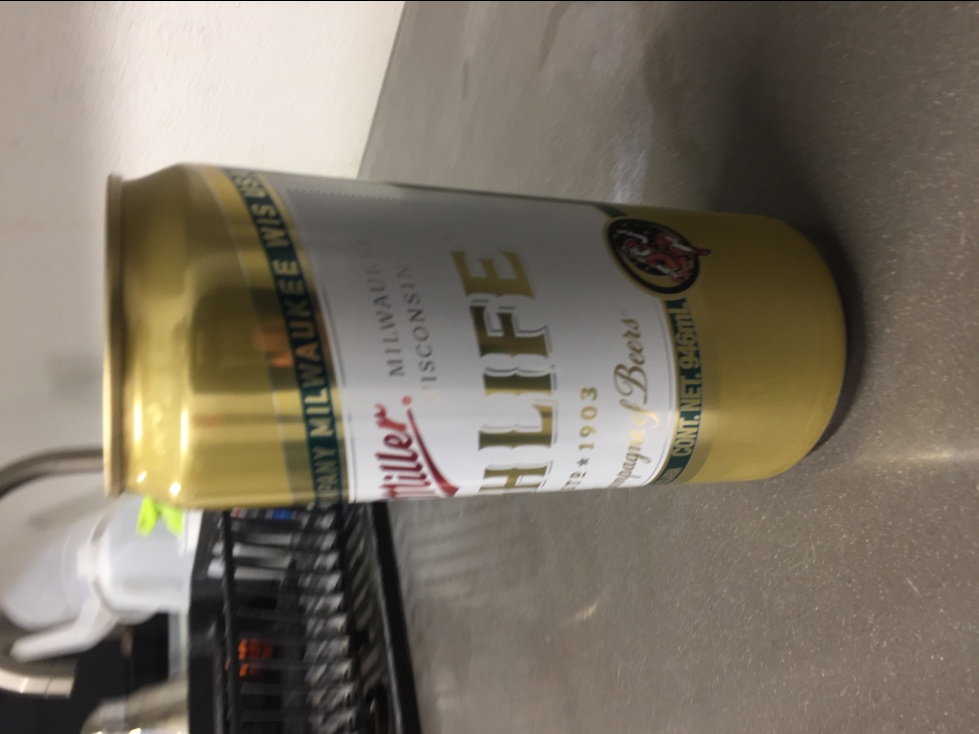miller: (95, 155, 859, 511)
